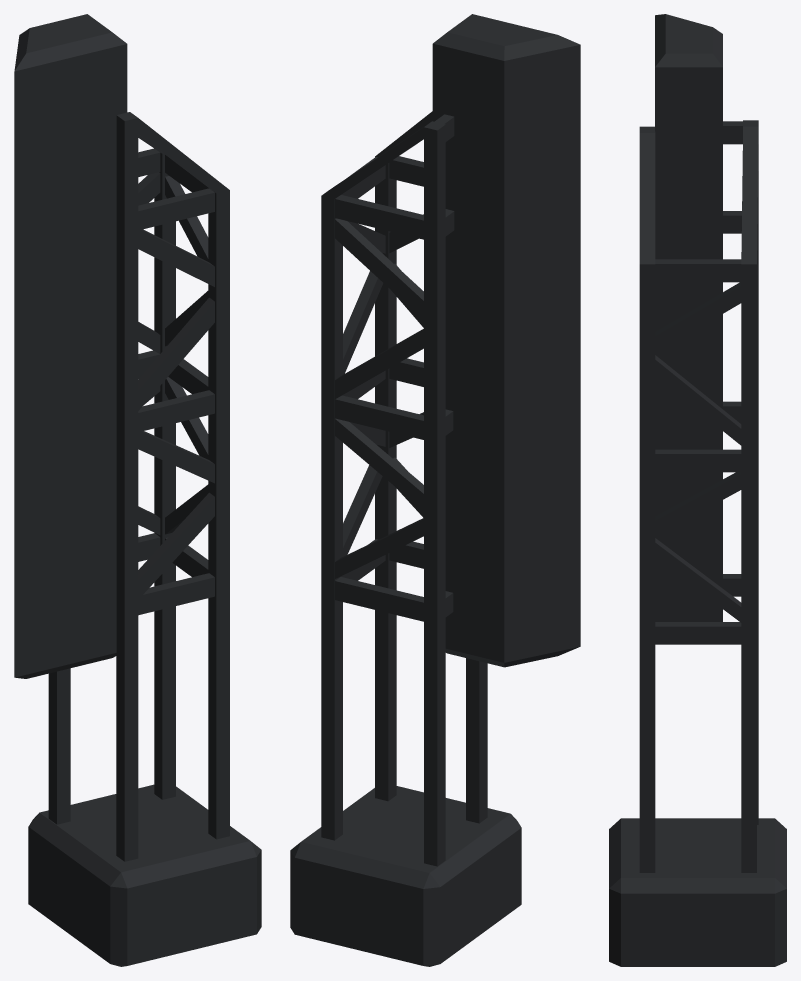
The model's file is SM_Prop_Billboard_Frame_01.fbx.
The picture shows the model from 3 angles, left to right: view 1: azimuth 30°, elevation 25°; view 2: azimuth 150°, elevation 25°; view 3: azimuth 270°, elevation 25°; orthographic projection. The views are drawn at different scales.
Visible parts, largest first — view 1: SM_Prop_Billboard_Frame_01; view 2: SM_Prop_Billboard_Frame_01; view 3: SM_Prop_Billboard_Frame_01.
Boxes of the visible parts, x1,y1,x2,y2 form: SM_Prop_Billboard_Frame_01: (14, 14, 261, 966); SM_Prop_Billboard_Frame_01: (290, 14, 580, 966); SM_Prop_Billboard_Frame_01: (609, 14, 786, 966).
Size of the model in its own units: 170 by 650 by 122.
